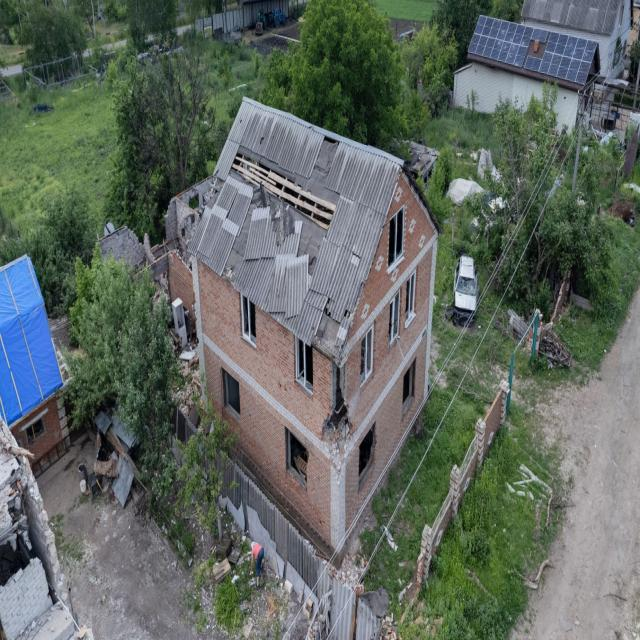broken_window: (285, 425, 309, 489), (358, 421, 376, 491), (294, 334, 314, 395), (386, 204, 404, 270), (221, 366, 241, 423), (240, 292, 257, 348), (359, 324, 374, 387), (402, 357, 415, 416), (404, 268, 416, 328), (388, 289, 400, 348)
building: (168, 94, 440, 567), (451, 0, 639, 141)
roof: (0, 252, 63, 429), (466, 13, 600, 89)
